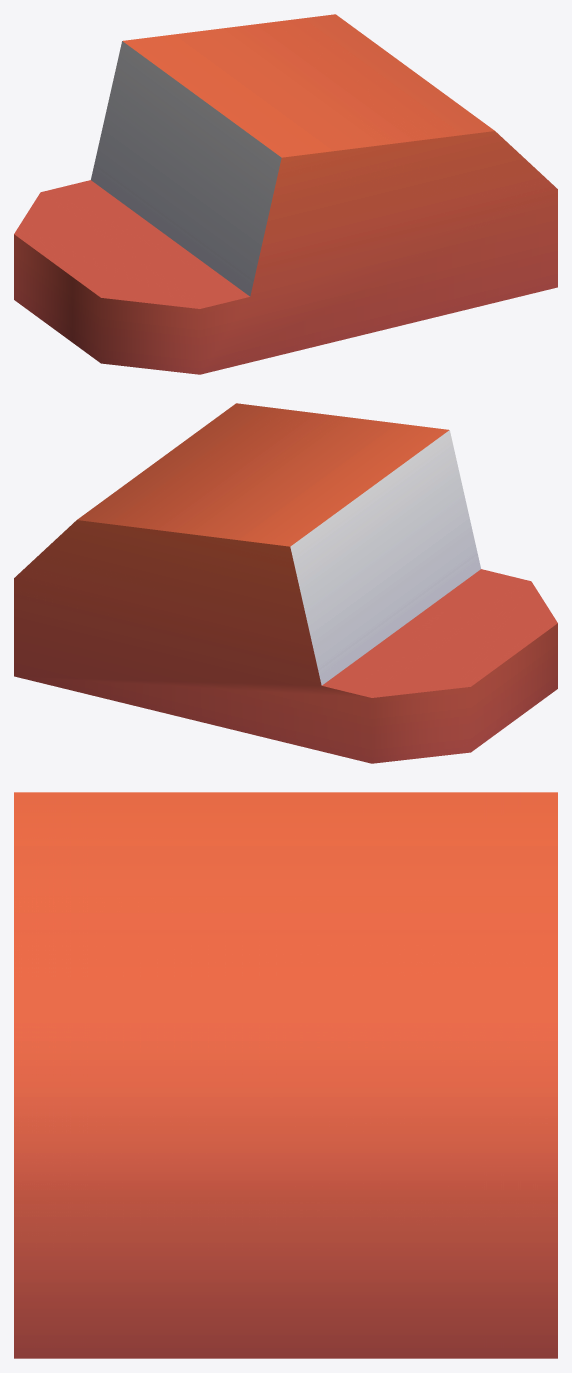
Rendered from hat-cap.glb.
3 views of the same model, one above another, from view 1: azimuth 30°, elevation 25°; view 2: azimuth 150°, elevation 25°; view 3: azimuth 270°, elevation 25° (orthographic). The views are drawn at different scales.
Visible parts, largest first — view 1: hat-cap; view 2: hat-cap; view 3: hat-cap.
Part boxes in pixels (x1,y1,x2,y2): hat-cap: (14, 14, 557, 374); hat-cap: (14, 403, 557, 763); hat-cap: (14, 792, 557, 1358).
Size of the model in its own units: 0.335 by 0.15 by 0.22.
Materials: 1 (1 with a texture image).
